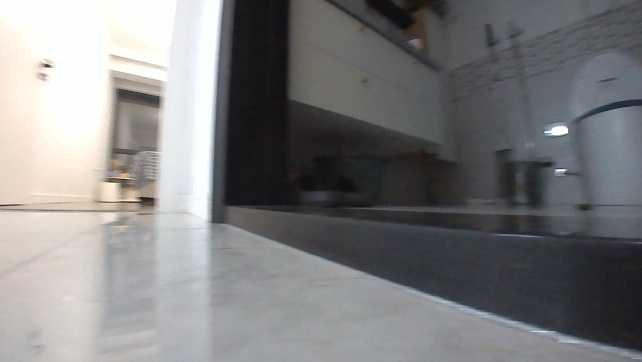bed1: (280, 0, 448, 159)
toilet: (567, 46, 642, 210)
